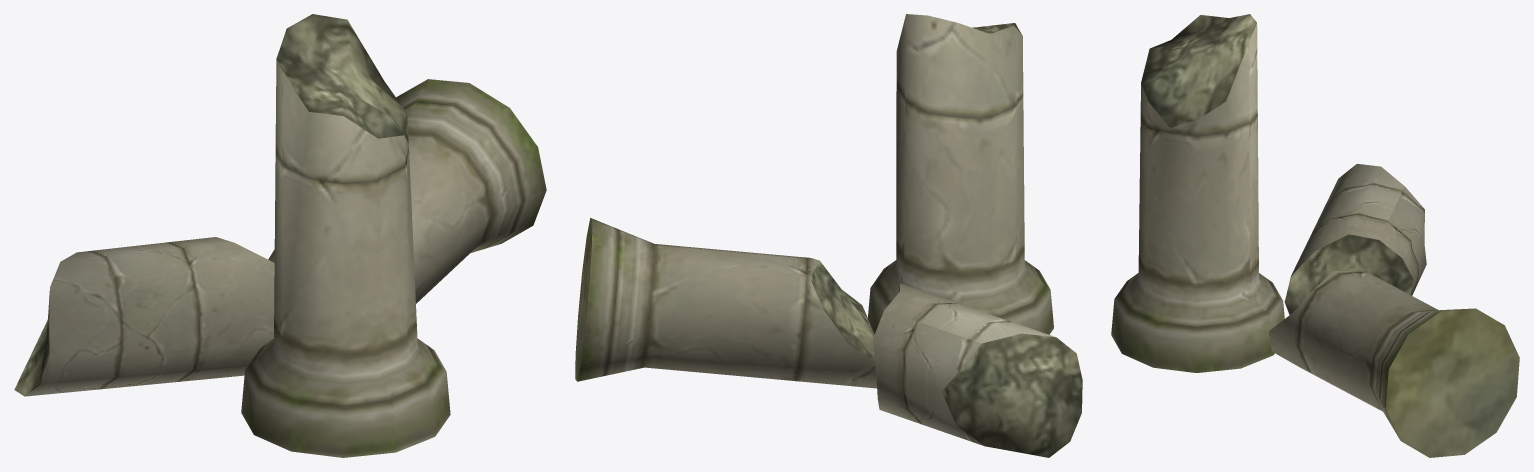
File: GreenRuins02.FBX
The picture shows the model from 3 angles, left to right: view 1: azimuth 30°, elevation 25°; view 2: azimuth 150°, elevation 25°; view 3: azimuth 270°, elevation 25°; orthographic projection. The views are drawn at different scales.
Visible parts, largest first — view 1: GreenRuins02; view 2: GreenRuins02; view 3: GreenRuins02.
Boxes of the visible parts, x1,y1,x2,y2 form: GreenRuins02: [14, 14, 546, 457]; GreenRuins02: [575, 14, 1082, 457]; GreenRuins02: [1111, 14, 1519, 457].
Bounding box in the file's own units: 356 × 250 × 281.
